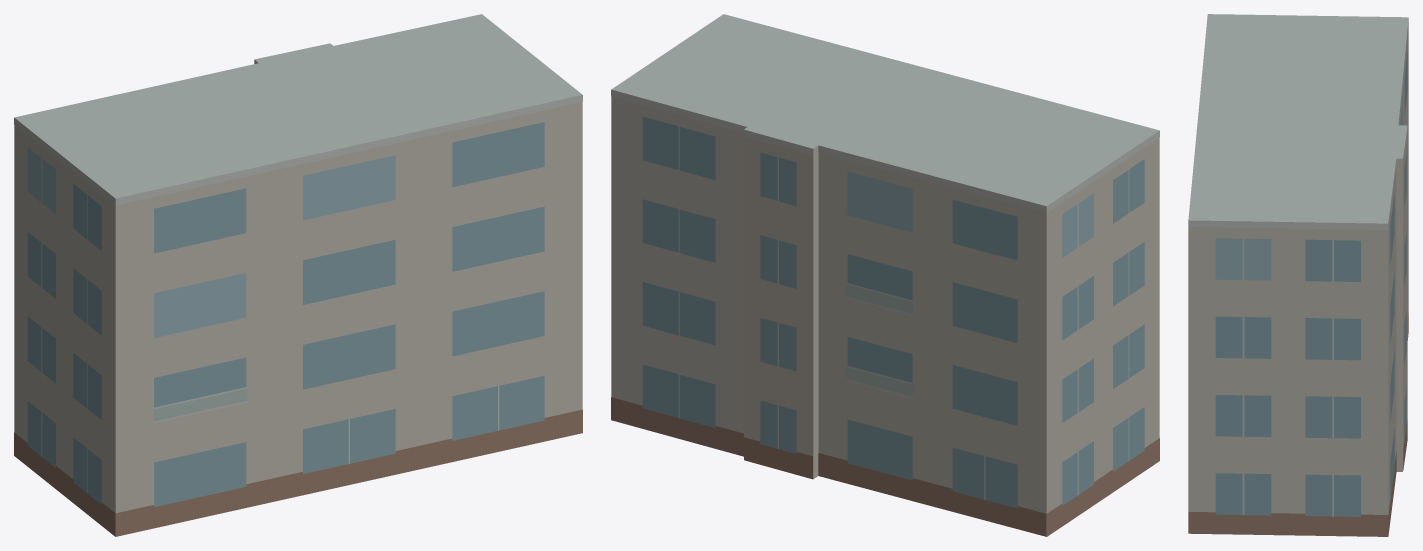
Rendered from survey-upis-32988935.glb.
3 renders of one model, left to right at view 1: azimuth 30°, elevation 25°; view 2: azimuth 150°, elevation 25°; view 3: azimuth 270°, elevation 25°, orthographic. The views are drawn at different scales.
Parts seen in each view (by area): view 1: survey-upis-32988935.tmp; view 2: survey-upis-32988935.tmp; view 3: survey-upis-32988935.tmp.
Boxes of the visible parts, x1,y1,x2,y2 form: survey-upis-32988935.tmp: (14,14,582,536); survey-upis-32988935.tmp: (611,14,1159,536); survey-upis-32988935.tmp: (1188,14,1408,536).
Bounding box in the file's own units: 16.94 × 11.8 × 7.53.
